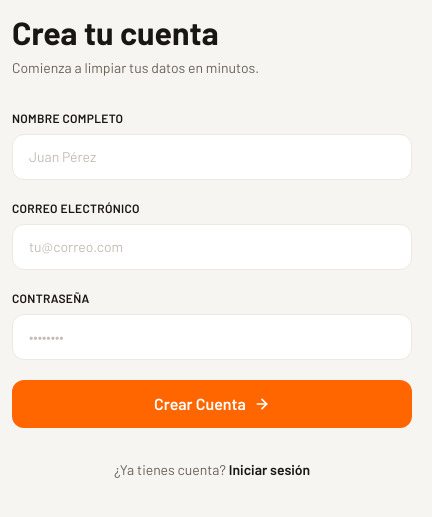
Test case: RegisterPage › shows validation error for short name
Type "J" into the field labelled "Nombre completo" at [212, 157], box [12,134,412,180]
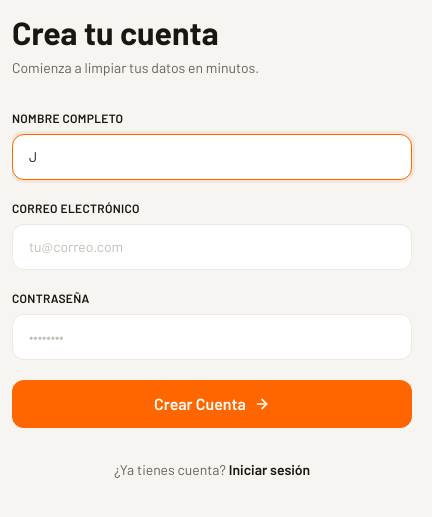
Type "j@example.com" into the field labelled "Correo electrónico" at [212, 247], box [12,224,412,270]
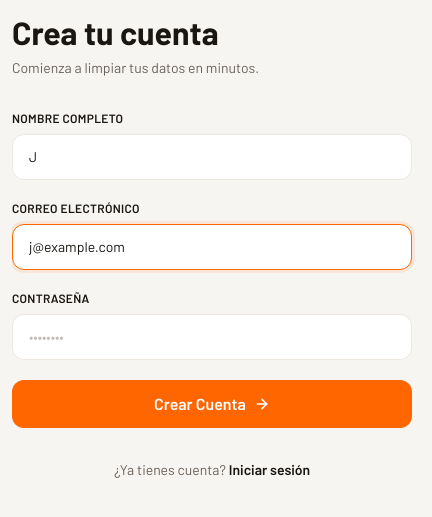
Type "password123" into the password field labelled "Contraseña" at [212, 337], box [12,314,412,360]
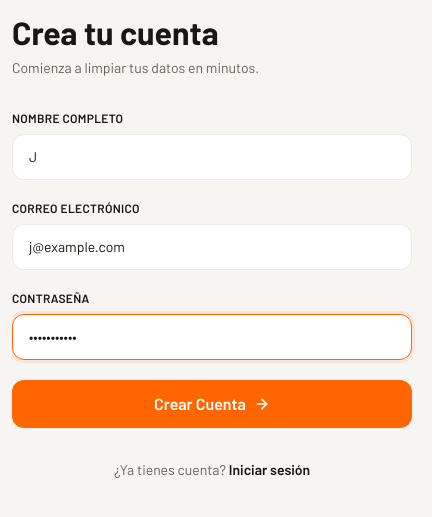
Click the button "Crear Cuenta" at [212, 404], box [12,380,412,428]
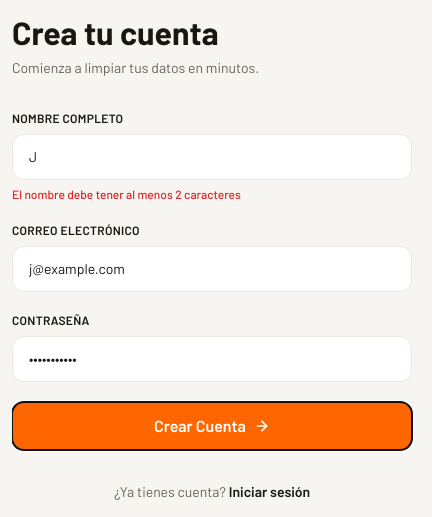
expect the text "El nombre debe tener al menos 2 caracteres" is shown: met, box [12,187,241,201]
